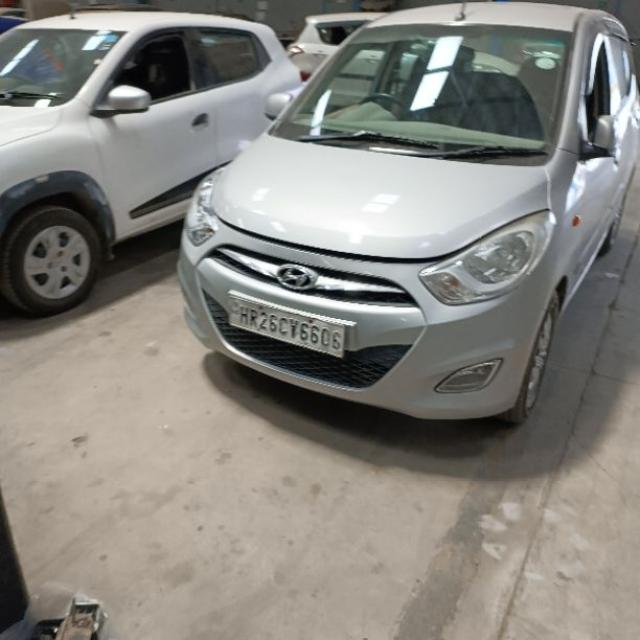license_plate: (226, 290, 346, 358)
